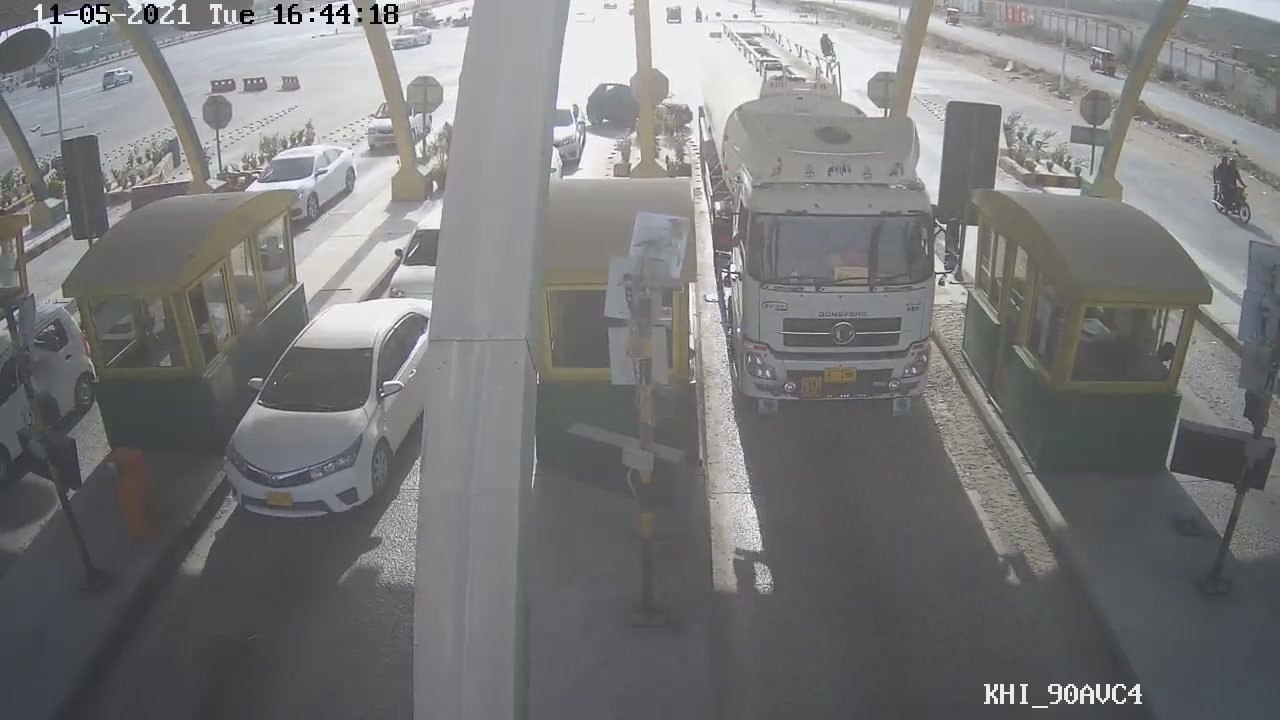F6: (692, 14, 965, 420)
